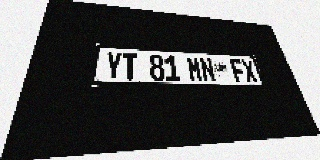1: (164, 55, 180, 81)
8: (149, 54, 165, 81)
F: (229, 59, 247, 82)
M: (186, 56, 203, 82)
N: (199, 57, 216, 82)
T: (122, 53, 138, 80)
X: (240, 59, 259, 83)
Y: (104, 52, 122, 80)
